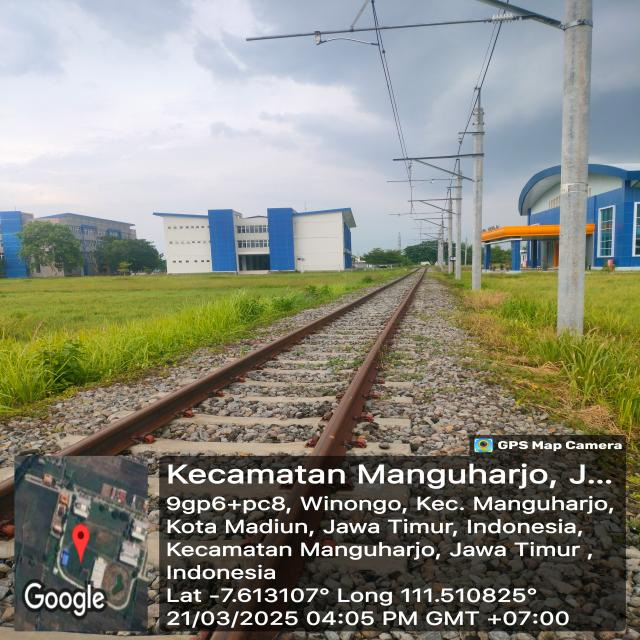rail-detection: (60, 280, 399, 455), (311, 271, 424, 456)
